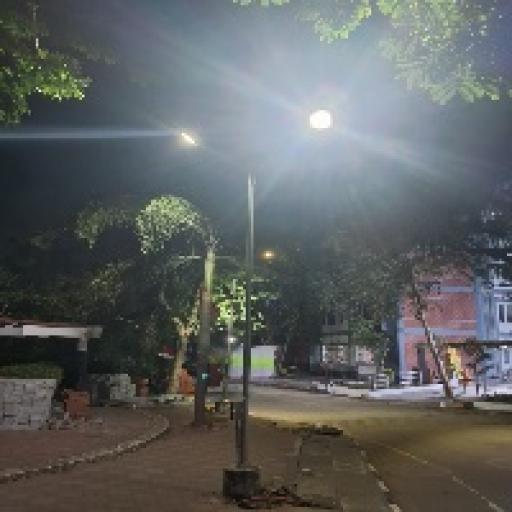Working: (294, 104, 343, 136), (177, 125, 208, 154)
